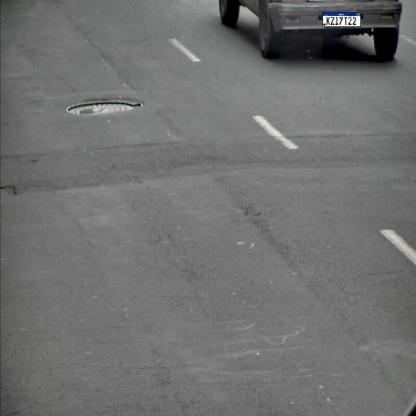PlacaM: (322, 12, 361, 27)
